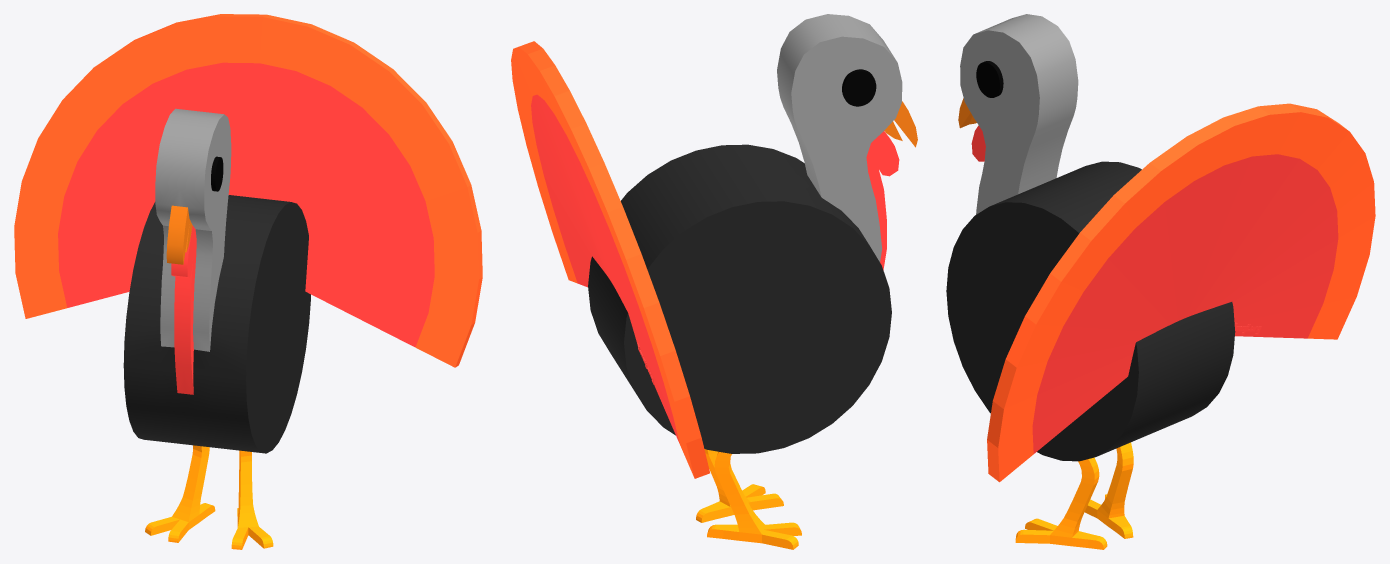
File: turkey.gltf
3 renders of one model, left to right at view 1: azimuth 30°, elevation 25°; view 2: azimuth 150°, elevation 25°; view 3: azimuth 270°, elevation 25°, orthographic. The views are drawn at different scales.
Parts seen in each view (by area): view 1: Circle.1936; view 2: Circle.1936, Circle.1938; view 3: Circle.1936, Circle.1938.
Part boxes in pixels (bbox=[...]): Circle.1936: bbox=[14, 14, 482, 549]; Circle.1936: bbox=[511, 14, 917, 549]; Circle.1938: bbox=[842, 69, 876, 106]; Circle.1936: bbox=[946, 14, 1375, 549]; Circle.1938: bbox=[976, 61, 1003, 97].
Bounding box in the file's own units: 1.73 × 2.13 × 1.73.
1 material, 1 textured.
